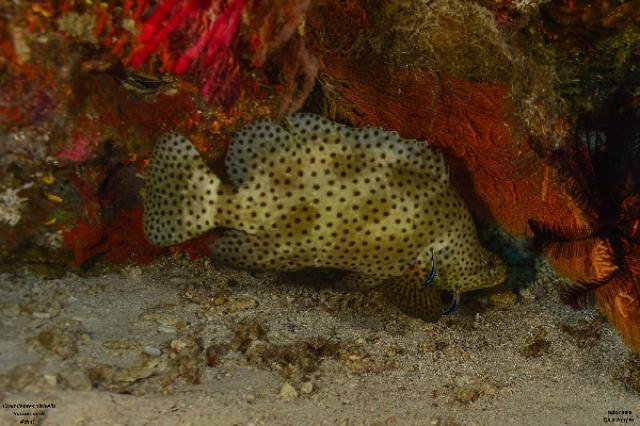Mulut: (482, 240, 518, 290)
Sirip Anal: (199, 227, 289, 288)
Sirip Dada: (377, 248, 449, 330)
Sirip Ekor: (131, 119, 217, 260)
Sirip Perut: (328, 263, 384, 301)
Sirip Punggung: (225, 104, 453, 188)
